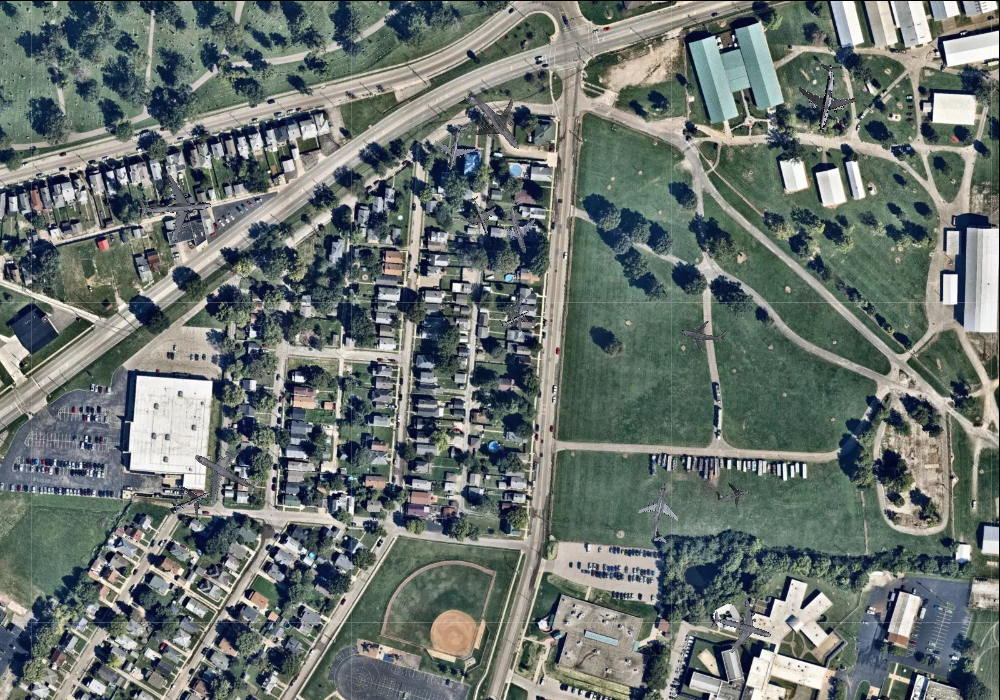plane: (443, 71, 541, 171), (178, 426, 272, 518), (788, 57, 864, 135), (134, 169, 213, 244), (704, 591, 779, 664), (630, 480, 692, 547), (489, 194, 549, 259), (428, 119, 482, 175), (675, 308, 730, 358), (165, 475, 216, 526), (489, 289, 538, 338), (455, 190, 503, 239), (494, 298, 535, 338), (713, 474, 754, 513)
